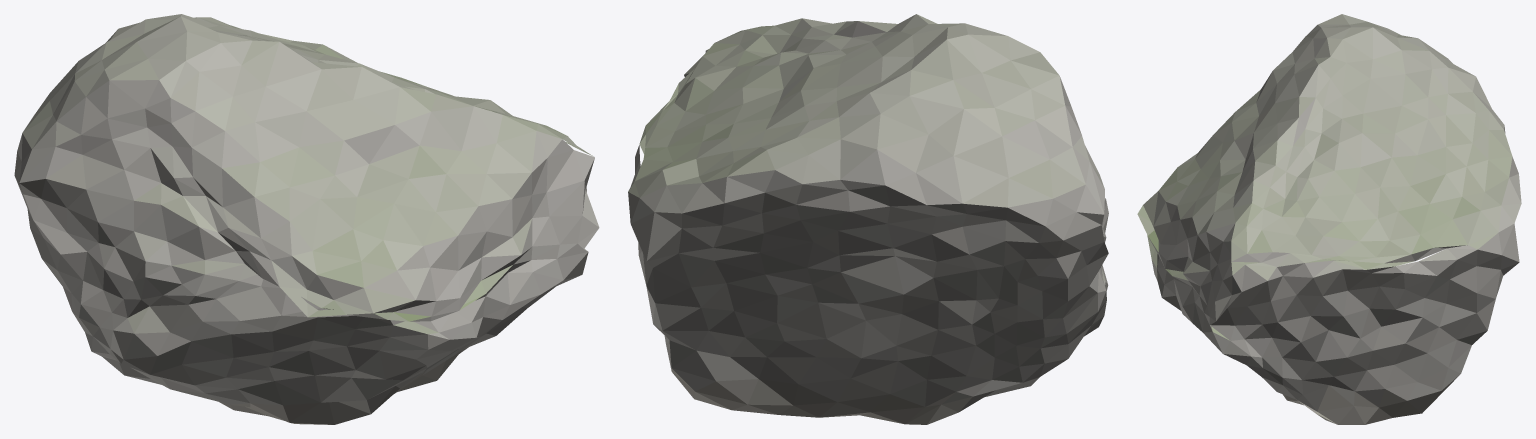
The picture shows the model from 3 angles, left to right: view 1: azimuth 30°, elevation 25°; view 2: azimuth 150°, elevation 25°; view 3: azimuth 270°, elevation 25°; orthographic projection. The views are drawn at different scales.
Visible parts, largest first — view 1: pedra_granito_a; view 2: pedra_granito_a; view 3: pedra_granito_a.
Boxes of the visible parts, box(x1,y1,x2,y2) form: pedra_granito_a: box(14, 14, 599, 424); pedra_granito_a: box(628, 14, 1108, 424); pedra_granito_a: box(1137, 14, 1521, 424).
Size of the model in its own units: 1.71 by 1.29 by 1.49.
